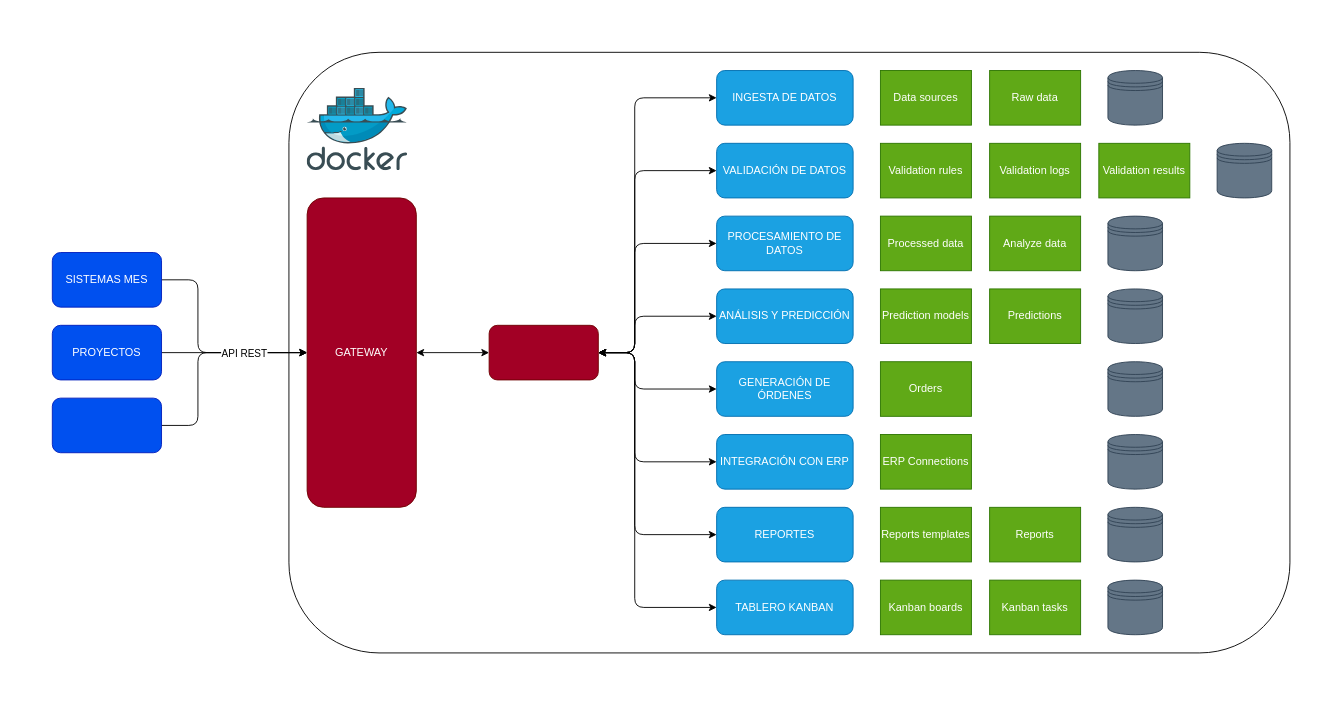
Image size: 1341x723. Some labels were removed from this diagram. The centre of each missing label's shape, as x and y in pixels:
"NATS" goes at pixel 543 352.
"SCANNER" goes at pixel 106 425.
